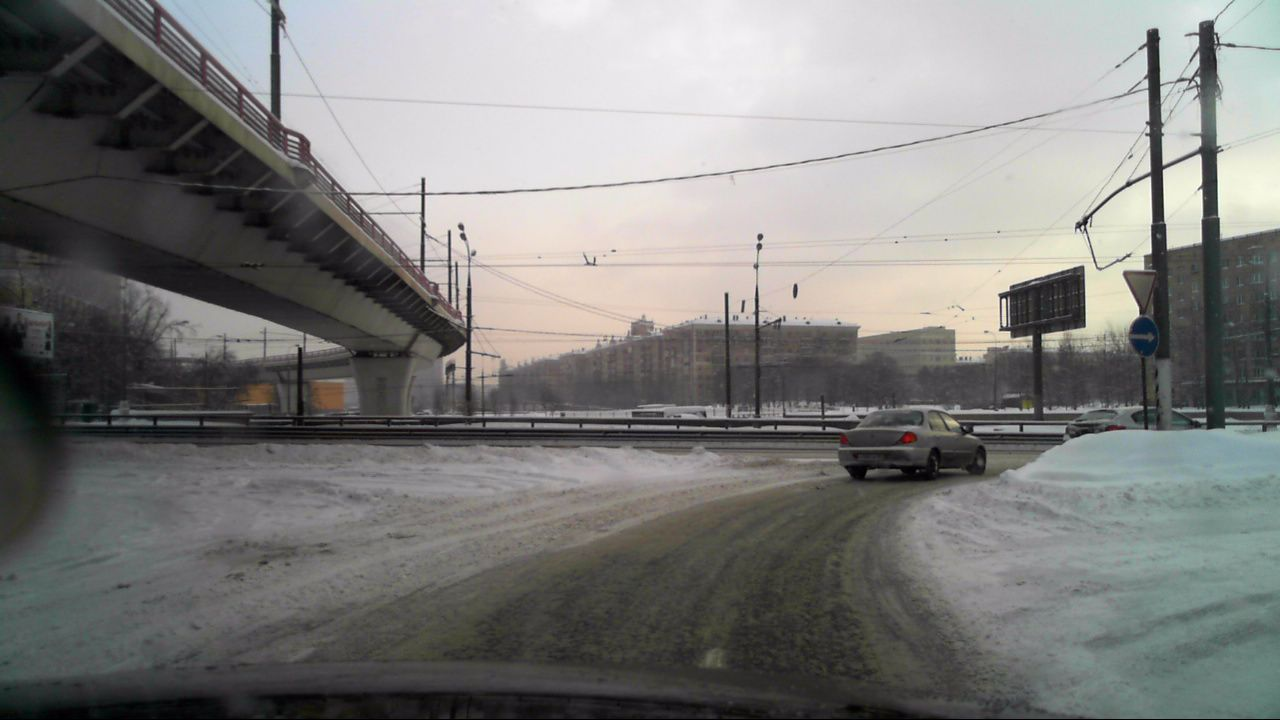Turn Right: (1129, 316, 1158, 357)
